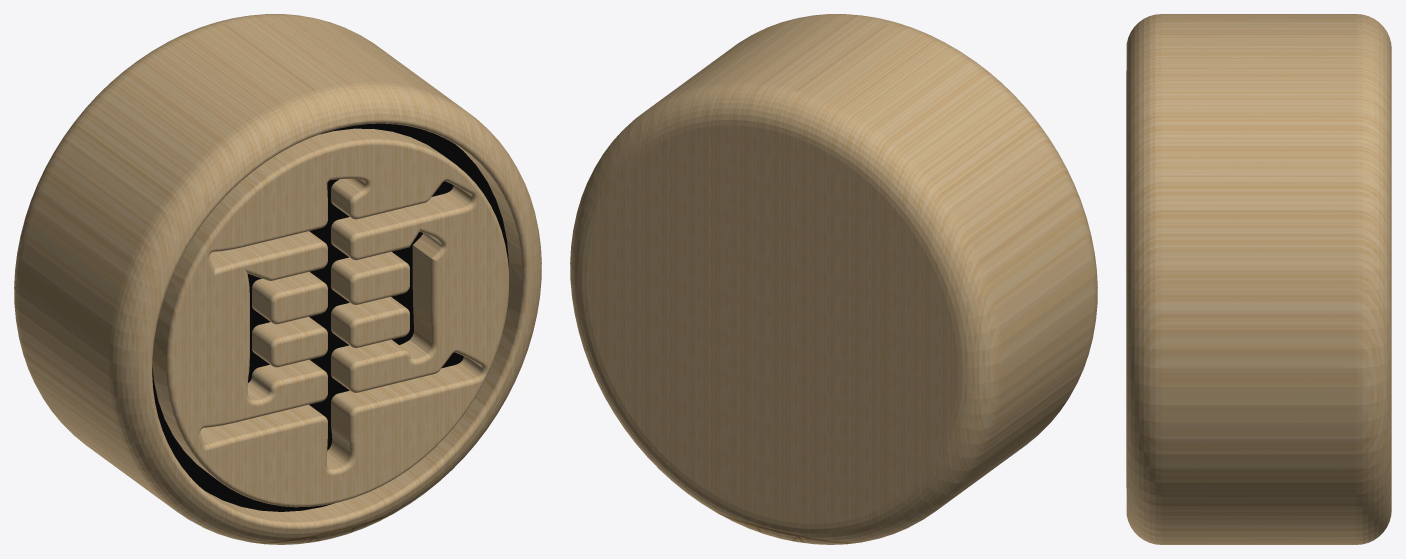
Rendered from h01_chess_black_chariot.obj.
The picture shows the model from 3 angles, left to right: view 1: azimuth 30°, elevation 25°; view 2: azimuth 150°, elevation 25°; view 3: azimuth 270°, elevation 25°; orthographic projection. The views are drawn at different scales.
Size of the model in its own units: 0.03 by 0.03 by 0.015.
2 materials, 1 textured.
